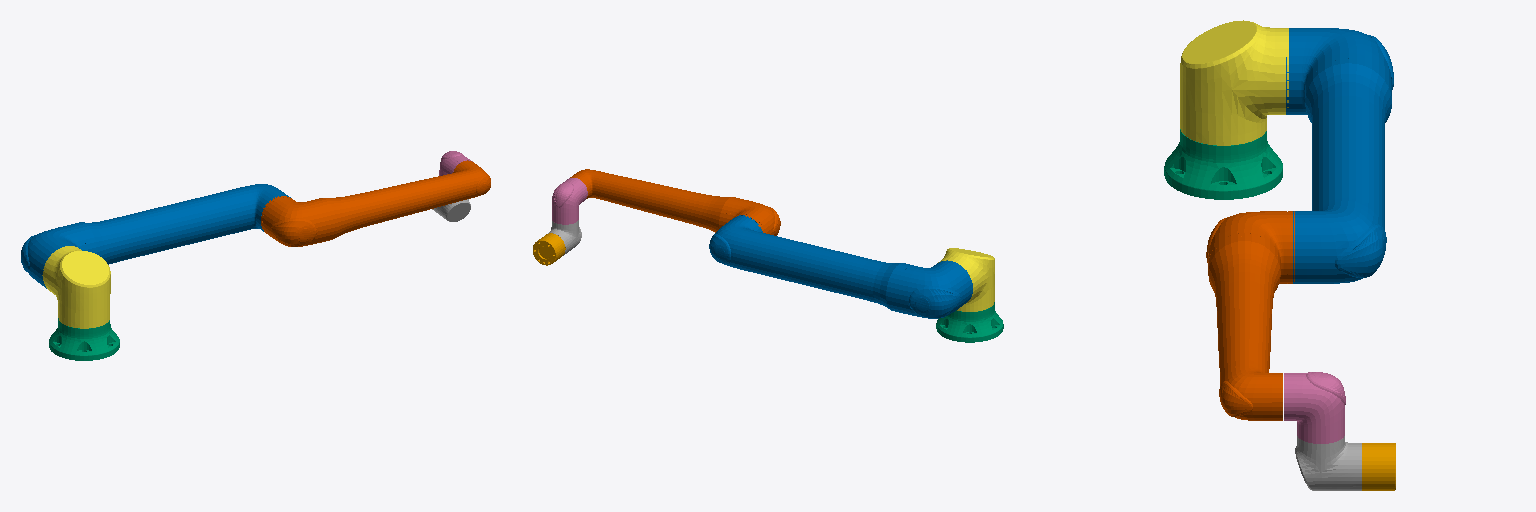
--- What the picture shows (computed from the rendered views, not written in the file) ---
3 views of the same robot in one strip: view 1: azimuth 30°, elevation 25°; view 2: azimuth 150°, elevation 25°; view 3: azimuth 270°, elevation 25° (orthographic).
Model ur20 with 13 links and 12 joints (6 revolute, 6 fixed), rooted at world, posed every joint at zero.
Links seen in each view (by area): view 1: upper_arm_link, forearm_link, shoulder_link, base_link_inertia, wrist_2_link; view 2: upper_arm_link, forearm_link, shoulder_link, base_link_inertia, wrist_1_link, wrist_3_link, wrist_2_link; view 3: upper_arm_link, forearm_link, shoulder_link, base_link_inertia, wrist_1_link, wrist_2_link, wrist_3_link.
Link boxes in pixels (<box>): upper_arm_link: <box>21,184,290,288</box>; forearm_link: <box>261,160,490,246</box>; shoulder_link: <box>42,246,110,328</box>; base_link_inertia: <box>49,318,119,360</box>; wrist_2_link: <box>432,199,470,221</box>; upper_arm_link: <box>709,215,972,318</box>; forearm_link: <box>570,169,780,235</box>; shoulder_link: <box>938,248,994,311</box>; base_link_inertia: <box>936,302,1003,342</box>; wrist_1_link: <box>552,178,587,224</box>; wrist_3_link: <box>533,233,565,265</box>; wrist_2_link: <box>548,220,581,255</box>; upper_arm_link: <box>1286,28,1393,283</box>; forearm_link: <box>1206,211,1294,420</box>; shoulder_link: <box>1180,20,1288,145</box>; base_link_inertia: <box>1164,129,1282,199</box>; wrist_1_link: <box>1284,372,1345,443</box>; wrist_2_link: <box>1295,436,1361,490</box>; wrist_3_link: <box>1362,443,1395,490</box>.
Bounding box of the posed robot: 1.77 × 0.4775 × 0.333 m (x, y, z).
7 mesh visuals loaded from 7 distinct referenced files (7 binary STL).

The robot description file, URDF, robot "ur20":
<?xml version="1.0" ?>
<!-- =================================================================================== -->
<!-- |    This document was autogenerated by xacro from [local-path]/workspace/ur_description_ws/install/ur_description/share/ur_description/urdf/ur.urdf.xacro | -->
<!-- |    EDITING THIS FILE BY HAND IS NOT RECOMMENDED                                 | -->
<!-- =================================================================================== -->
<robot name="ur20">
  <!--
    Base UR robot series xacro macro.

    NOTE this is NOT a URDF. It cannot directly be loaded by consumers
    expecting a flattened '.urdf' file. See the top-level '.xacro' for that
    (but note that .xacro must still be processed by the xacro command).

    This file models the base kinematic chain of a UR robot, which then gets
    parameterised by various configuration files to convert it into a UR3(e),
    UR5(e), UR10(e) or UR16e.

    NOTE the default kinematic parameters (i.e., link lengths, frame locations,
    offsets, etc) do not correspond to any particular robot. They are defaults
    only. There WILL be non-zero offsets between the Forward Kinematics results
    in TF (i.e., robot_state_publisher) and the values reported by the Teach
    Pendant.

    For accurate (and robot-specific) transforms, the 'kinematics_parameters_file'
    parameter MUST point to a .yaml file containing the appropriate values for
    the targeted robot.

    If using the UniversalRobots/Universal_Robots_ROS_Driver, follow the steps
    described in the readme of that repository to extract the kinematic
    calibration from the controller and generate the required .yaml file.

    Main author of the migration to yaml configs Ludovic Delval.

    Contributors to previous versions (in no particular order)

     - Denis Stogl
     - Lovro Ivanov
     - Felix Messmer
     - Kelsey Hawkins
     - Wim Meeussen
     - Shaun Edwards
     - Nadia Hammoudeh Garcia
     - Dave Hershberger
     - G. vd. Hoorn
     - Philip Long
     - Dave Coleman
     - Miguel Prada
     - Mathias Luedtke
     - Marcel Schnirring
     - Felix von Drigalski
     - Felix Exner
     - Jimmy Da Silva
     - Ajit Krisshna N L
     - Muhammad Asif Rana
  -->
  <!--
    NOTE the macro defined in this file is NOT part of the public API of this
          package. Users CANNOT rely on this file being available, or stored in
          this location. Nor can they rely on the existence of the macro.
  -->
  <!-- create link fixed to the "world" -->
  <link name="world"/>
  <ros2_control name="ur20" type="system">
    <hardware>
      <plugin>ur_robot_driver/URPositionHardwareInterface</plugin>
      <param name="robot_ip">0.0.0.0</param>
      <param name="script_filename"></param>
      <param name="output_recipe_filename"></param>
      <param name="input_recipe_filename"></param>
      <param name="headless_mode">False</param>
      <param name="reverse_port">50001</param>
      <param name="script_sender_port">50002</param>
      <param name="reverse_ip">0.0.0.0</param>
      <param name="script_command_port">50004</param>
      <param name="trajectory_port">50003</param>
      <param name="tf_prefix"></param>
      <param name="non_blocking_read">True</param>
      <param name="servoj_gain">2000</param>
      <param name="servoj_lookahead_time">0.03</param>
      <param name="use_tool_communication">False</param>
      <param name="kinematics/hash">calib_4890363623803256388</param>
      <param name="tool_voltage">0</param>
      <param name="tool_parity">0</param>
      <param name="tool_baud_rate">115200</param>
      <param name="tool_stop_bits">1</param>
      <param name="tool_rx_idle_chars">1.5</param>
      <param name="tool_tx_idle_chars">3.5</param>
      <param name="tool_device_name">/tmp/ttyUR</param>
      <param name="tool_tcp_port">54321</param>
      <param name="keep_alive_count">2</param>
    </hardware>
    <joint name="shoulder_pan_joint">
      <command_interface name="position"/>
      <command_interface name="velocity"/>
      <state_interface name="position">
        <!-- initial position for the FakeSystem and simulation -->
        <param name="initial_value">0.0</param>
      </state_interface>
      <state_interface name="velocity"/>
      <state_interface name="effort"/>
    </joint>
    <joint name="shoulder_lift_joint">
      <command_interface name="position"/>
      <command_interface name="velocity"/>
      <state_interface name="position">
        <!-- initial position for the FakeSystem and simulation -->
        <param name="initial_value">-1.57</param>
      </state_interface>
      <state_interface name="velocity"/>
      <state_interface name="effort"/>
    </joint>
    <joint name="elbow_joint">
      <command_interface name="position"/>
      <command_interface name="velocity"/>
      <state_interface name="position">
        <!-- initial position for the FakeSystem and simulation -->
        <param name="initial_value">0.0</param>
      </state_interface>
      <state_interface name="velocity"/>
      <state_interface name="effort"/>
    </joint>
    <joint name="wrist_1_joint">
      <command_interface name="position"/>
      <command_interface name="velocity"/>
      <state_interface name="position">
        <!-- initial position for the FakeSystem and simulation -->
        <param name="initial_value">-1.57</param>
      </state_interface>
      <state_interface name="velocity"/>
      <state_interface name="effort"/>
    </joint>
    <joint name="wrist_2_joint">
      <command_interface name="position"/>
      <command_interface name="velocity"/>
      <state_interface name="position">
        <!-- initial position for the FakeSystem and simulation -->
        <param name="initial_value">0.0</param>
      </state_interface>
      <state_interface name="velocity"/>
      <state_interface name="effort"/>
    </joint>
    <joint name="wrist_3_joint">
      <command_interface name="position"/>
      <command_interface name="velocity"/>
      <state_interface name="position">
        <!-- initial position for the FakeSystem and simulation -->
        <param name="initial_value">0.0</param>
      </state_interface>
      <state_interface name="velocity"/>
      <state_interface name="effort"/>
    </joint>
    <sensor name="tcp_fts_sensor">
      <state_interface name="force.x"/>
      <state_interface name="force.y"/>
      <state_interface name="force.z"/>
      <state_interface name="torque.x"/>
      <state_interface name="torque.y"/>
      <state_interface name="torque.z"/>
    </sensor>
    <sensor name="tcp_pose">
      <state_interface name="position.x"/>
      <state_interface name="position.y"/>
      <state_interface name="position.z"/>
      <state_interface name="orientation.x"/>
      <state_interface name="orientation.y"/>
      <state_interface name="orientation.z"/>
      <state_interface name="orientation.w"/>
    </sensor>
    <!-- NOTE The following are joints used only for testing with fake hardware and will change in the future -->
    <gpio name="speed_scaling">
      <state_interface name="speed_scaling_factor"/>
      <param name="initial_speed_scaling_factor">1</param>
      <command_interface name="target_speed_fraction_cmd"/>
      <command_interface name="target_speed_fraction_async_success"/>
    </gpio>
    <gpio name="gpio">
      <command_interface name="standard_digital_output_cmd_0"/>
      <command_interface name="standard_digital_output_cmd_1"/>
      <command_interface name="standard_digital_output_cmd_2"/>
      <command_interface name="standard_digital_output_cmd_3"/>
      <command_interface name="standard_digital_output_cmd_4"/>
      <command_interface name="standard_digital_output_cmd_5"/>
      <command_interface name="standard_digital_output_cmd_6"/>
      <command_interface name="standard_digital_output_cmd_7"/>
      <command_interface name="standard_digital_output_cmd_8"/>
      <command_interface name="standard_digital_output_cmd_9"/>
      <command_interface name="standard_digital_output_cmd_10"/>
      <command_interface name="standard_digital_output_cmd_11"/>
      <command_interface name="standard_digital_output_cmd_12"/>
      <command_interface name="standard_digital_output_cmd_13"/>
      <command_interface name="standard_digital_output_cmd_14"/>
      <command_interface name="standard_digital_output_cmd_15"/>
      <command_interface name="standard_digital_output_cmd_16"/>
      <command_interface name="standard_digital_output_cmd_17"/>
      <command_interface name="standard_analog_output_cmd_0"/>
      <command_interface name="standard_analog_output_cmd_1"/>
      <command_interface name="analog_output_domain_cmd"/>
      <command_interface name="tool_voltage_cmd"/>
      <command_interface name="io_async_success"/>
      <state_interface name="digital_output_0"/>
      <state_interface name="digital_output_1"/>
      <state_interface name="digital_output_2"/>
      <state_interface name="digital_output_3"/>
      <state_interface name="digital_output_4"/>
      <state_interface name="digital_output_5"/>
      <state_interface name="digital_output_6"/>
      <state_interface name="digital_output_7"/>
      <state_interface name="digital_output_8"/>
      <state_interface name="digital_output_9"/>
      <state_interface name="digital_output_10"/>
      <state_interface name="digital_output_11"/>
      <state_interface name="digital_output_12"/>
      <state_interface name="digital_output_13"/>
      <state_interface name="digital_output_14"/>
      <state_interface name="digital_output_15"/>
      <state_interface name="digital_output_16"/>
      <state_interface name="digital_output_17"/>
      <state_interface name="digital_input_0"/>
      <state_interface name="digital_input_1"/>
      <state_interface name="digital_input_2"/>
      <state_interface name="digital_input_3"/>
      <state_interface name="digital_input_4"/>
      <state_interface name="digital_input_5"/>
      <state_interface name="digital_input_6"/>
      <state_interface name="digital_input_7"/>
      <state_interface name="digital_input_8"/>
      <state_interface name="digital_input_9"/>
      <state_interface name="digital_input_10"/>
      <state_interface name="digital_input_11"/>
      <state_interface name="digital_input_12"/>
      <state_interface name="digital_input_13"/>
      <state_interface name="digital_input_14"/>
      <state_interface name="digital_input_15"/>
      <state_interface name="digital_input_16"/>
      <state_interface name="digital_input_17"/>
      <state_interface name="standard_analog_output_0"/>
      <state_interface name="standard_analog_output_1"/>
      <state_interface name="standard_analog_input_0"/>
      <state_interface name="standard_analog_input_1"/>
      <state_interface name="analog_io_type_0"/>
      <state_interface name="analog_io_type_1"/>
      <state_interface name="analog_io_type_2"/>
      <state_interface name="analog_io_type_3"/>
      <state_interface name="tool_mode"/>
      <state_interface name="tool_output_voltage"/>
      <state_interface name="tool_output_current"/>
      <state_interface name="tool_temperature"/>
      <state_interface name="tool_analog_input_0"/>
      <state_interface name="tool_analog_input_1"/>
      <state_interface name="tool_analog_input_type_0"/>
      <state_interface name="tool_analog_input_type_1"/>
      <state_interface name="robot_mode"/>
      <state_interface name="robot_status_bit_0"/>
      <state_interface name="robot_status_bit_1"/>
      <state_interface name="robot_status_bit_2"/>
      <state_interface name="robot_status_bit_3"/>
      <state_interface name="safety_mode"/>
      <state_interface name="safety_status_bit_0"/>
      <state_interface name="safety_status_bit_1"/>
      <state_interface name="safety_status_bit_2"/>
      <state_interface name="safety_status_bit_3"/>
      <state_interface name="safety_status_bit_4"/>
      <state_interface name="safety_status_bit_5"/>
      <state_interface name="safety_status_bit_6"/>
      <state_interface name="safety_status_bit_7"/>
      <state_interface name="safety_status_bit_8"/>
      <state_interface name="safety_status_bit_9"/>
      <state_interface name="safety_status_bit_10"/>
      <state_interface name="program_running"/>
    </gpio>
    <gpio name="payload">
      <command_interface name="mass"/>
      <command_interface name="cog.x"/>
      <command_interface name="cog.y"/>
      <command_interface name="cog.z"/>
      <command_interface name="payload_async_success"/>
    </gpio>
    <gpio name="resend_robot_program">
      <command_interface name="resend_robot_program_cmd"/>
      <command_interface name="resend_robot_program_async_success"/>
    </gpio>
    <gpio name="hand_back_control">
      <command_interface name="hand_back_control_cmd"/>
      <command_interface name="hand_back_control_async_success"/>
    </gpio>
    <gpio name="zero_ftsensor">
      <command_interface name="zero_ftsensor_cmd"/>
      <command_interface name="zero_ftsensor_async_success"/>
    </gpio>
    <gpio name="freedrive_mode">
      <command_interface name="async_success"/>
      <command_interface name="enable"/>
      <command_interface name="abort"/>
    </gpio>
    <gpio name="system_interface">
      <state_interface name="initialized"/>
    </gpio>
    <gpio name="force_mode">
      <command_interface name="task_frame_x"/>
      <command_interface name="task_frame_y"/>
      <command_interface name="task_frame_z"/>
      <command_interface name="task_frame_rx"/>
      <command_interface name="task_frame_ry"/>
      <command_interface name="task_frame_rz"/>
      <command_interface name="selection_vector_x"/>
      <command_interface name="selection_vector_y"/>
      <command_interface name="selection_vector_z"/>
      <command_interface name="selection_vector_rx"/>
      <command_interface name="selection_vector_ry"/>
      <command_interface name="selection_vector_rz"/>
      <command_interface name="wrench_x"/>
      <command_interface name="wrench_y"/>
      <command_interface name="wrench_z"/>
      <command_interface name="wrench_rx"/>
      <command_interface name="wrench_ry"/>
      <command_interface name="wrench_rz"/>
      <command_interface name="limits_x"/>
      <command_interface name="limits_y"/>
      <command_interface name="limits_z"/>
      <command_interface name="limits_rx"/>
      <command_interface name="limits_ry"/>
      <command_interface name="limits_rz"/>
      <command_interface name="type"/>
      <command_interface name="damping"/>
      <command_interface name="gain_scaling"/>
      <command_interface name="disable_cmd"/>
      <command_interface name="force_mode_async_success"/>
    </gpio>
    <gpio name="trajectory_passthrough">
      <command_interface name="setpoint_positions_0"/>
      <command_interface name="setpoint_positions_1"/>
      <command_interface name="setpoint_positions_2"/>
      <command_interface name="setpoint_positions_3"/>
      <command_interface name="setpoint_positions_4"/>
      <command_interface name="setpoint_positions_5"/>
      <command_interface name="setpoint_velocities_0"/>
      <command_interface name="setpoint_velocities_1"/>
      <command_interface name="setpoint_velocities_2"/>
      <command_interface name="setpoint_velocities_3"/>
      <command_interface name="setpoint_velocities_4"/>
      <command_interface name="setpoint_velocities_5"/>
      <command_interface name="setpoint_accelerations_0"/>
      <command_interface name="setpoint_accelerations_1"/>
      <command_interface name="setpoint_accelerations_2"/>
      <command_interface name="setpoint_accelerations_3"/>
      <command_interface name="setpoint_accelerations_4"/>
      <command_interface name="setpoint_accelerations_5"/>
      <command_interface name="transfer_state"/>
      <command_interface name="time_from_start"/>
      <command_interface name="abort"/>
    </gpio>
    <gpio name="get_robot_software_version">
      <state_interface name="get_version_major"/>
      <state_interface name="get_version_minor"/>
      <state_interface name="get_version_build"/>
      <state_interface name="get_version_bugfix"/>
    </gpio>
  </ros2_control>
  <!-- Add URDF transmission elements (for ros_control) -->
  <!--<xacro:ur_arm_transmission prefix="${prefix}" hw_interface="${transmission_hw_interface}" />-->
  <!-- Placeholder for ros2_control transmission which don't yet exist -->
  <!-- links -  main serial chain -->
  <link name="base_link"/>
  <link name="base_link_inertia">
    <visual>
      <origin rpy="0 0 3.141592653589793" xyz="0 0 0"/>
      <geometry>
        <mesh filename="package://ur_description/meshes/visual/base.stl"/>
      </geometry>
    </visual>
    <collision>
      <origin rpy="0 0 3.141592653589793" xyz="0 0 0"/>
      <geometry>
        <mesh filename="package://ur_description/meshes/collision/base.stl"/>
      </geometry>
    </collision>
    <inertial>
      <mass value="4.0"/>
      <origin rpy="0 0 0" xyz="0 0 0"/>
      <inertia ixx="0.0061063308908" ixy="0.0" ixz="0.0" iyy="0.0061063308908" iyz="0.0" izz="0.01125"/>
    </inertial>
  </link>
  <link name="shoulder_link">
    <visual>
      <origin rpy="0 0 3.141592653589793" xyz="0 0 0"/>
      <geometry>
        <mesh filename="package://ur_description/meshes/visual/shoulder.stl"/>
      </geometry>
    </visual>
    <collision>
      <origin rpy="0 0 3.141592653589793" xyz="0 0 0"/>
      <geometry>
        <mesh filename="package://ur_description/meshes/collision/shoulder.stl"/>
      </geometry>
    </collision>
    <inertial>
      <mass value="16.343"/>
      <origin rpy="1.570796326794897 0 0" xyz="0.0 -0.0062 -0.061"/>
      <inertia ixx="0.08866" ixy="-0.00011" ixz="-0.00011" iyy="0.07632" iyz="0.0072" izz="0.08418"/>
    </inertial>
  </link>
  <link name="upper_arm_link">
    <visual>
      <origin rpy="1.5707963267948966 0 -1.5707963267948966" xyz="0 0 0.26"/>
      <geometry>
        <mesh filename="package://ur_description/meshes/visual/upperarm.stl"/>
      </geometry>
    </visual>
    <collision>
      <origin rpy="1.5707963267948966 0 -1.5707963267948966" xyz="0 0 0.26"/>
      <geometry>
        <mesh filename="package://ur_description/meshes/collision/upperarm.stl"/>
      </geometry>
    </collision>
    <inertial>
      <mass value="29.632"/>
      <origin rpy="0 0 0" xyz="-0.3394 0.0 0.2098"/>
      <inertia ixx="0.1467" ixy="0.00019" ixz="-0.05163" iyy="4.6659" iyz="4e-05" izz="4.6348"/>
    </inertial>
  </link>
  <link name="forearm_link">
    <visual>
      <origin rpy="1.5707963267948966 0 -1.5707963267948966" xyz="0 0 0.043"/>
      <geometry>
        <mesh filename="package://ur_description/meshes/visual/forearm.stl"/>
      </geometry>
    </visual>
    <collision>
      <origin rpy="1.5707963267948966 0 -1.5707963267948966" xyz="0 0 0.043"/>
      <geometry>
        <mesh filename="package://ur_description/meshes/collision/forearm.stl"/>
      </geometry>
    </collision>
    <inertial>
      <mass value="7.879"/>
      <origin rpy="0 0 0" xyz="-0.4053 0.0 0.0604"/>
      <inertia ixx="0.02612" ixy="-5e-05" ixz="-0.02898" iyy="0.75763" iyz="-1e-05" izz="0.75327"/>
    </inertial>
  </link>
  <link name="wrist_1_link">
    <visual>
      <origin rpy="1.5707963267948966 0 0" xyz="0 0 -0.0775"/>
      <geometry>
        <mesh filename="package://ur_description/meshes/visual/wrist1.stl"/>
      </geometry>
    </visual>
    <collision>
      <origin rpy="1.5707963267948966 0 0" xyz="0 0 -0.0775"/>
      <geometry>
        <mesh filename="package://ur_description/meshes/collision/wrist1.stl"/>
      </geometry>
    </collision>
    <inertial>
      <mass value="3.054"/>
      <origin rpy="1.570796326794897 0 0" xyz="0.0 -0.0393 -0.0026"/>
      <inertia ixx="0.00555" ixy="-1e-05" ixz="-2e-05" iyy="0.00537" iyz="0.00036" izz="0.00402"/>
    </inertial>
  </link>
  <link name="wrist_2_link">
    <visual>
      <origin rpy="0 0 0" xyz="0 0 -0.0749"/>
      <geometry>
        <mesh filename="package://ur_description/meshes/visual/wrist2.stl"/>
      </geometry>
    </visual>
    <collision>
      <origin rpy="0 0 0" xyz="0 0 -0.0749"/>
      <geometry>
        <mesh filename="package://ur_description/meshes/collision/wrist2.stl"/>
      </geometry>
    </collision>
    <inertial>
      <mass value="3.126"/>
      <origin rpy="-1.570796326794897 0 0" xyz="0.0 0.0379 -0.0024"/>
      <inertia ixx="0.00586" ixy="-1e-05" ixz="-2e-05" iyy="0.00578" iyz="-0.00037" izz="0.00427"/>
    </inertial>
  </link>
  <link name="wrist_3_link">
    <visual>
      <origin rpy="1.5707963267948966 0 0" xyz="0 0 -0.07"/>
      <geometry>
        <mesh filename="package://ur_description/meshes/visual/wrist3.stl"/>
      </geometry>
    </visual>
    <collision>
      <origin rpy="1.5707963267948966 0 0" xyz="0 0 -0.07"/>
      <geometry>
        <mesh filename="package://ur_description/meshes/collision/wrist3.stl"/>
      </geometry>
    </collision>
    <inertial>
      <mass value="0.926"/>
      <origin rpy="0 0 0" xyz="0.0 0.0 -0.0293"/>
      <inertia ixx="0.00092" ixy="0.0" ixz="0.0" iyy="0.00091" iyz="0.0" izz="0.00117"/>
    </inertial>
  </link>
  <!-- base_joint fixes base_link to the environment -->
  <joint name="base_joint" type="fixed">
    <origin rpy="0 0 0" xyz="0 0 0"/>
    <parent link="world"/>
    <child link="base_link"/>
  </joint>
  <!-- joints - main serial chain -->
  <joint name="base_link-base_link_inertia" type="fixed">
    <parent link="base_link"/>
    <child link="base_link_inertia"/>
    <!-- 'base_link' is REP-103 aligned (so X+ forward), while the internal
           frames of the robot/controller have X+ pointing backwards.
           Use the joint between 'base_link' and 'base_link_inertia' (a dummy
           link/frame) to introduce the necessary rotation over Z (of pi rad).
      -->
    <origin rpy="0 0 3.141592653589793" xyz="0 0 0"/>
  </joint>
  <joint name="shoulder_pan_joint" type="revolute">
    <parent link="base_link_inertia"/>
    <child link="shoulder_link"/>
    <origin rpy="0 0 0" xyz="0 0 0.2363"/>
    <axis xyz="0 0 1"/>
    <limit effort="738.0" lower="-6.283185307179586" upper="6.283185307179586" velocity="2.0943951023931953"/>
    <dynamics damping="0" friction="0"/>
  </joint>
  <joint name="shoulder_lift_joint" type="revolute">
    <parent link="shoulder_link"/>
    <child link="upper_arm_link"/>
    <origin rpy="1.570796327 0 0" xyz="0 0 0"/>
    <axis xyz="0 0 1"/>
    <limit effort="738.0" lower="-6.283185307179586" upper="6.283185307179586" velocity="2.0943951023931953"/>
    <dynamics damping="0" friction="0"/>
  </joint>
  <joint name="elbow_joint" type="revolute">
    <parent link="upper_arm_link"/>
    <child link="forearm_link"/>
    <origin rpy="0 0 0" xyz="-0.862 0 0"/>
    <axis xyz="0 0 1"/>
    <limit effort="433.0" lower="-3.141592653589793" upper="3.141592653589793" velocity="2.6179938779914944"/>
    <dynamics damping="0" friction="0"/>
  </joint>
  <joint name="wrist_1_joint" type="revolute">
    <parent link="forearm_link"/>
    <child link="wrist_1_link"/>
    <origin rpy="0 0 0" xyz="-0.7287 0 0.201"/>
    <axis xyz="0 0 1"/>
    <limit effort="107.0" lower="-6.283185307179586" upper="6.283185307179586" velocity="3.6651914291880923"/>
    <dynamics damping="0" friction="0"/>
  </joint>
  <joint name="wrist_2_joint" type="revolute">
    <parent link="wrist_1_link"/>
    <child link="wrist_2_link"/>
    <origin rpy="1.570796327 0 0" xyz="0 -0.1593 -3.267297616249225e-11"/>
    <axis xyz="0 0 1"/>
    <limit effort="107.0" lower="-6.283185307179586" upper="6.283185307179586" velocity="3.6651914291880923"/>
    <dynamics damping="0" friction="0"/>
  </joint>
  <joint name="wrist_3_joint" type="revolute">
    <parent link="wrist_2_link"/>
    <child link="wrist_3_link"/>
    <origin rpy="1.570796326589793 3.141592653589793 3.141592653589793" xyz="0 0.1543 -3.1647459019915597e-11"/>
    <axis xyz="0 0 1"/>
    <limit effort="107.0" lower="-6.283185307179586" upper="6.283185307179586" velocity="3.6651914291880923"/>
    <dynamics damping="0" friction="0"/>
  </joint>
  <link name="ft_frame"/>
  <joint name="wrist_3_link-ft_frame" type="fixed">
    <parent link="wrist_3_link"/>
    <child link="ft_frame"/>
    <origin rpy="3.141592653589793 0 0" xyz="0 0 0"/>
  </joint>
  <!-- ROS-Industrial 'base' frame - base_link to UR 'Base' Coordinates transform -->
  <link name="base"/>
  <joint name="base_link-base_fixed_joint" type="fixed">
    <!-- Note the rotation over Z of pi radians - as base_link is REP-103
           aligned (i.e., has X+ forward, Y+ left and Z+ up), this is needed
           to correctly align 'base' with the 'Base' coordinate system of
           the UR controller.
      -->
    <origin rpy="0 0 3.141592653589793" xyz="0 0 0"/>
    <parent link="base_link"/>
    <child link="base"/>
  </joint>
  <!-- ROS-Industrial 'flange' frame - attachment point for EEF models -->
  <link name="flange"/>
  <joint name="wrist_3-flange" type="fixed">
    <parent link="wrist_3_link"/>
    <child link="flange"/>
    <origin rpy="0 -1.5707963267948966 -1.5707963267948966" xyz="0 0 0"/>
  </joint>
  <!-- ROS-Industrial 'tool0' frame - all-zeros tool frame -->
  <link name="tool0"/>
  <joint name="flange-tool0" type="fixed">
    <!-- default toolframe - X+ left, Y+ up, Z+ front -->
    <origin rpy="1.5707963267948966 0 1.5707963267948966" xyz="0 0 0"/>
    <parent link="flange"/>
    <child link="tool0"/>
  </joint>
</robot>
